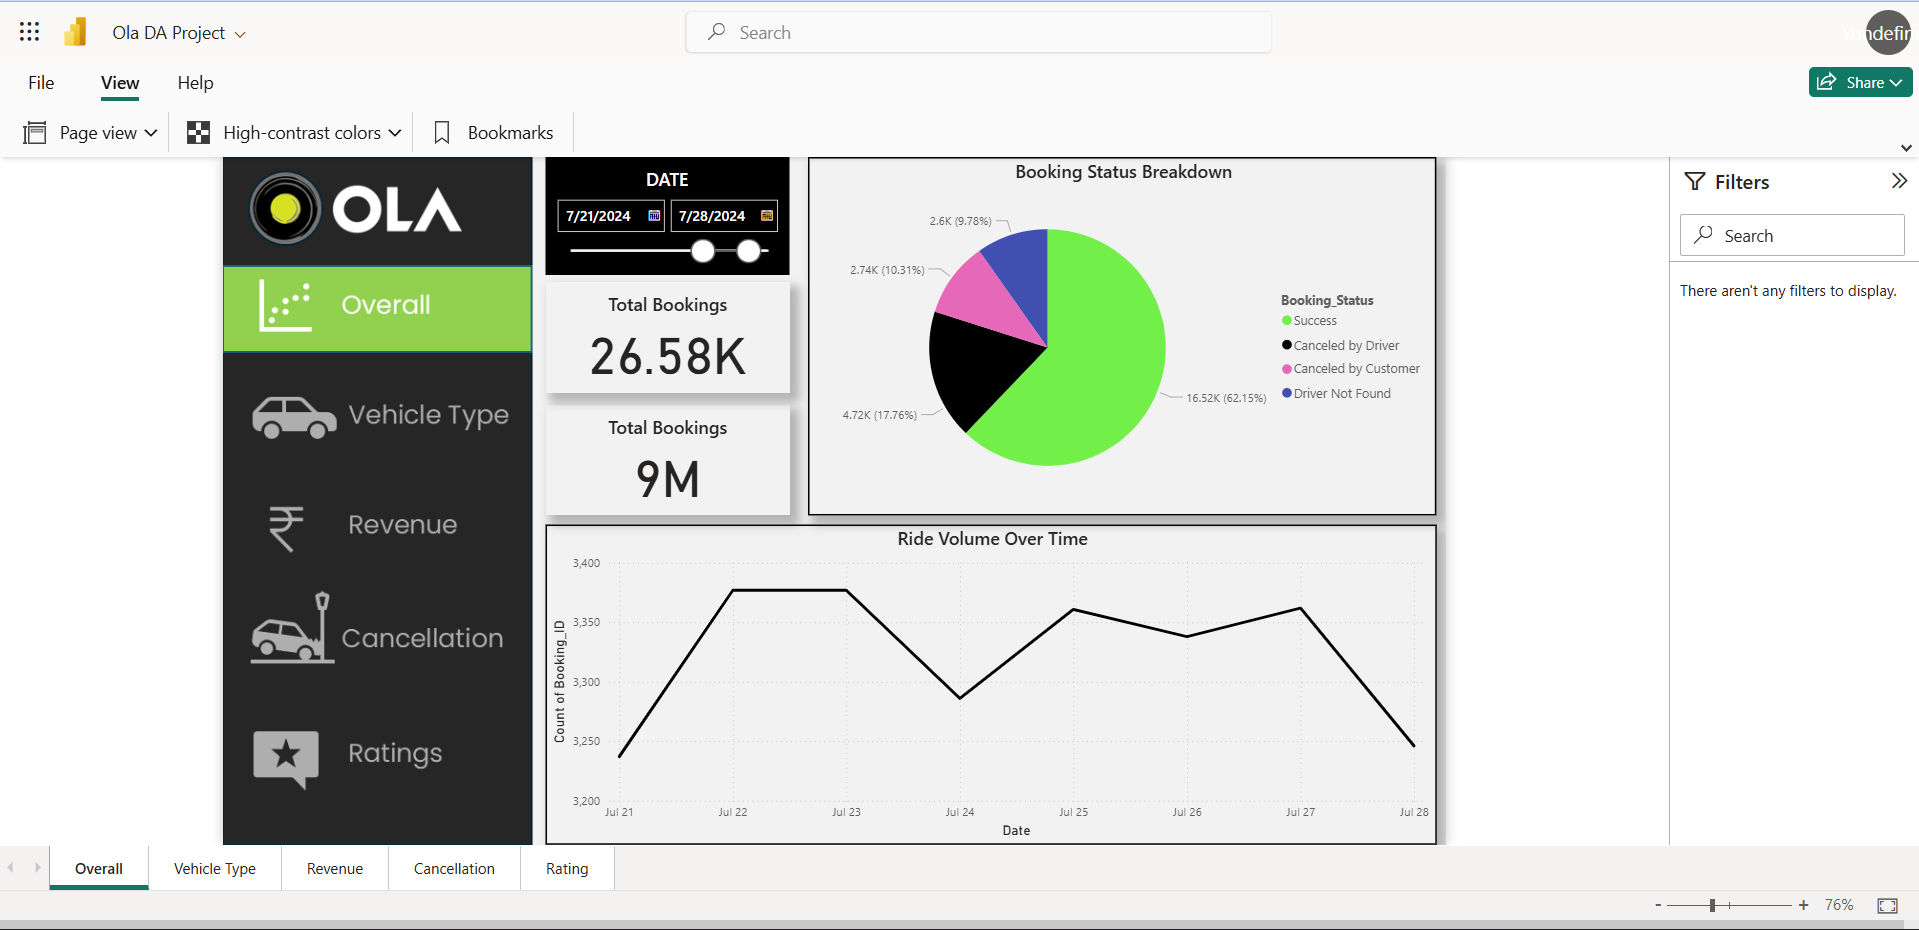

The dashboard page shown, as its layout file describes it:
{"tool":"powerbi","page":{"name":"Overall","canvas":[1280,720],"ordinal":0},"visuals":[{"type":"actionButton","box":[0,220.8,324.5,95.3],"z":0},{"type":"actionButton","box":[0,336.6,324.5,95.3],"z":1000},{"type":"actionButton","box":[0,451.2,324.5,95.3],"z":2000},{"type":"actionButton","box":[1.2,580.3,324.5,95.3],"z":3000},{"type":"actionButton","box":[0,103.8,324.5,95.3],"z":4000},{"type":"lineChart","title":"Ride Volume Over Time","fields":{"Y":["July.Booking_ID"],"Category":["July.Date"]},"box":[337.8,384.9,932.6,335.4],"z":5000},{"type":"pieChart","title":"Booking Status Breakdown","fields":{"Category":["July.Booking_Status"],"Y":["July.Booking_Status"]},"box":[612.9,0,657.5,375.2],"z":6000},{"type":"slicer","title":"DATE","fields":{"Values":["July.Date"]},"box":[337.8,0,254.6,123.1],"z":7000},{"type":"card","title":"Total Bookings","fields":{"Values":["July.Customer_ID"]},"box":[337.8,130.3,255.8,115.8],"z":8000},{"type":"card","title":"Total Bookings","fields":{"Values":["July.Booking_Value"]},"box":[337.8,259.4,255.8,115.8],"z":9000}]}

Visuals, with their boxes on the page's 1280x720 design canvas (x1, y1, x2, y2). These are canvas units, not pixel positions in the 1919x930 screenshot, which may show the page scaled, cropped or inside an application window:
actionButton: 0 221 324 316
actionButton: 0 337 324 432
actionButton: 0 451 324 546
actionButton: 1 580 326 676
actionButton: 0 104 324 199
"Ride Volume Over Time" lineChart: 338 385 1270 720
"Booking Status Breakdown" pieChart: 613 0 1270 375
"DATE" slicer: 338 0 592 123
"Total Bookings" card: 338 130 594 246
"Total Bookings" card: 338 259 594 375
